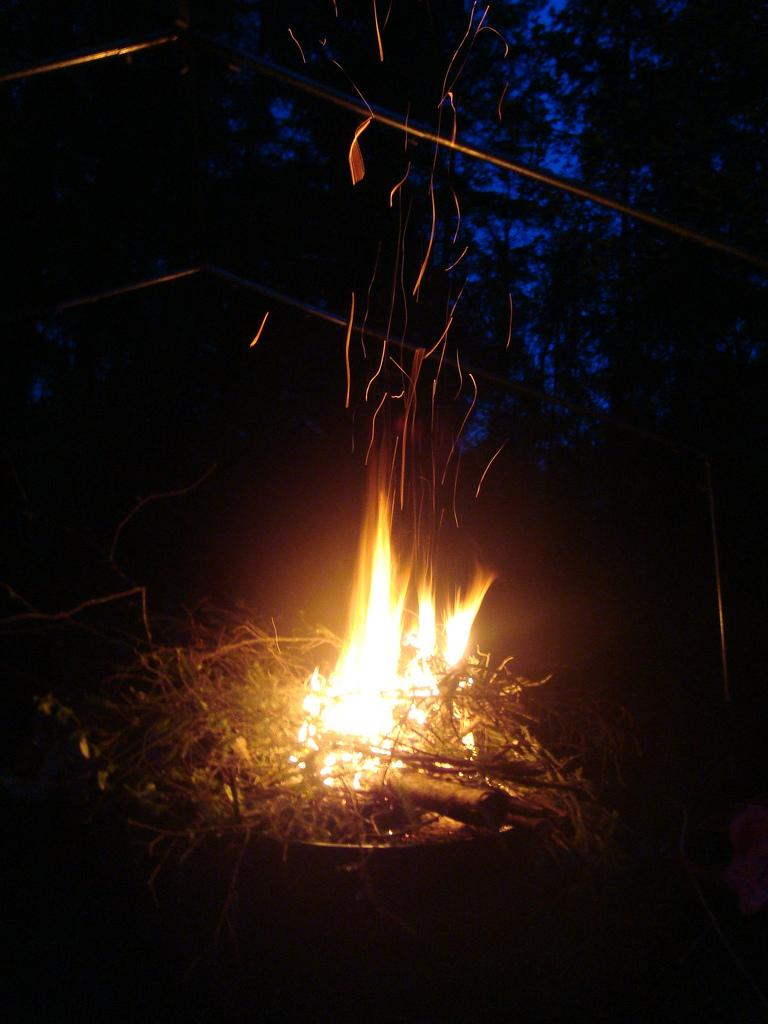fire: (330, 552, 458, 745)
